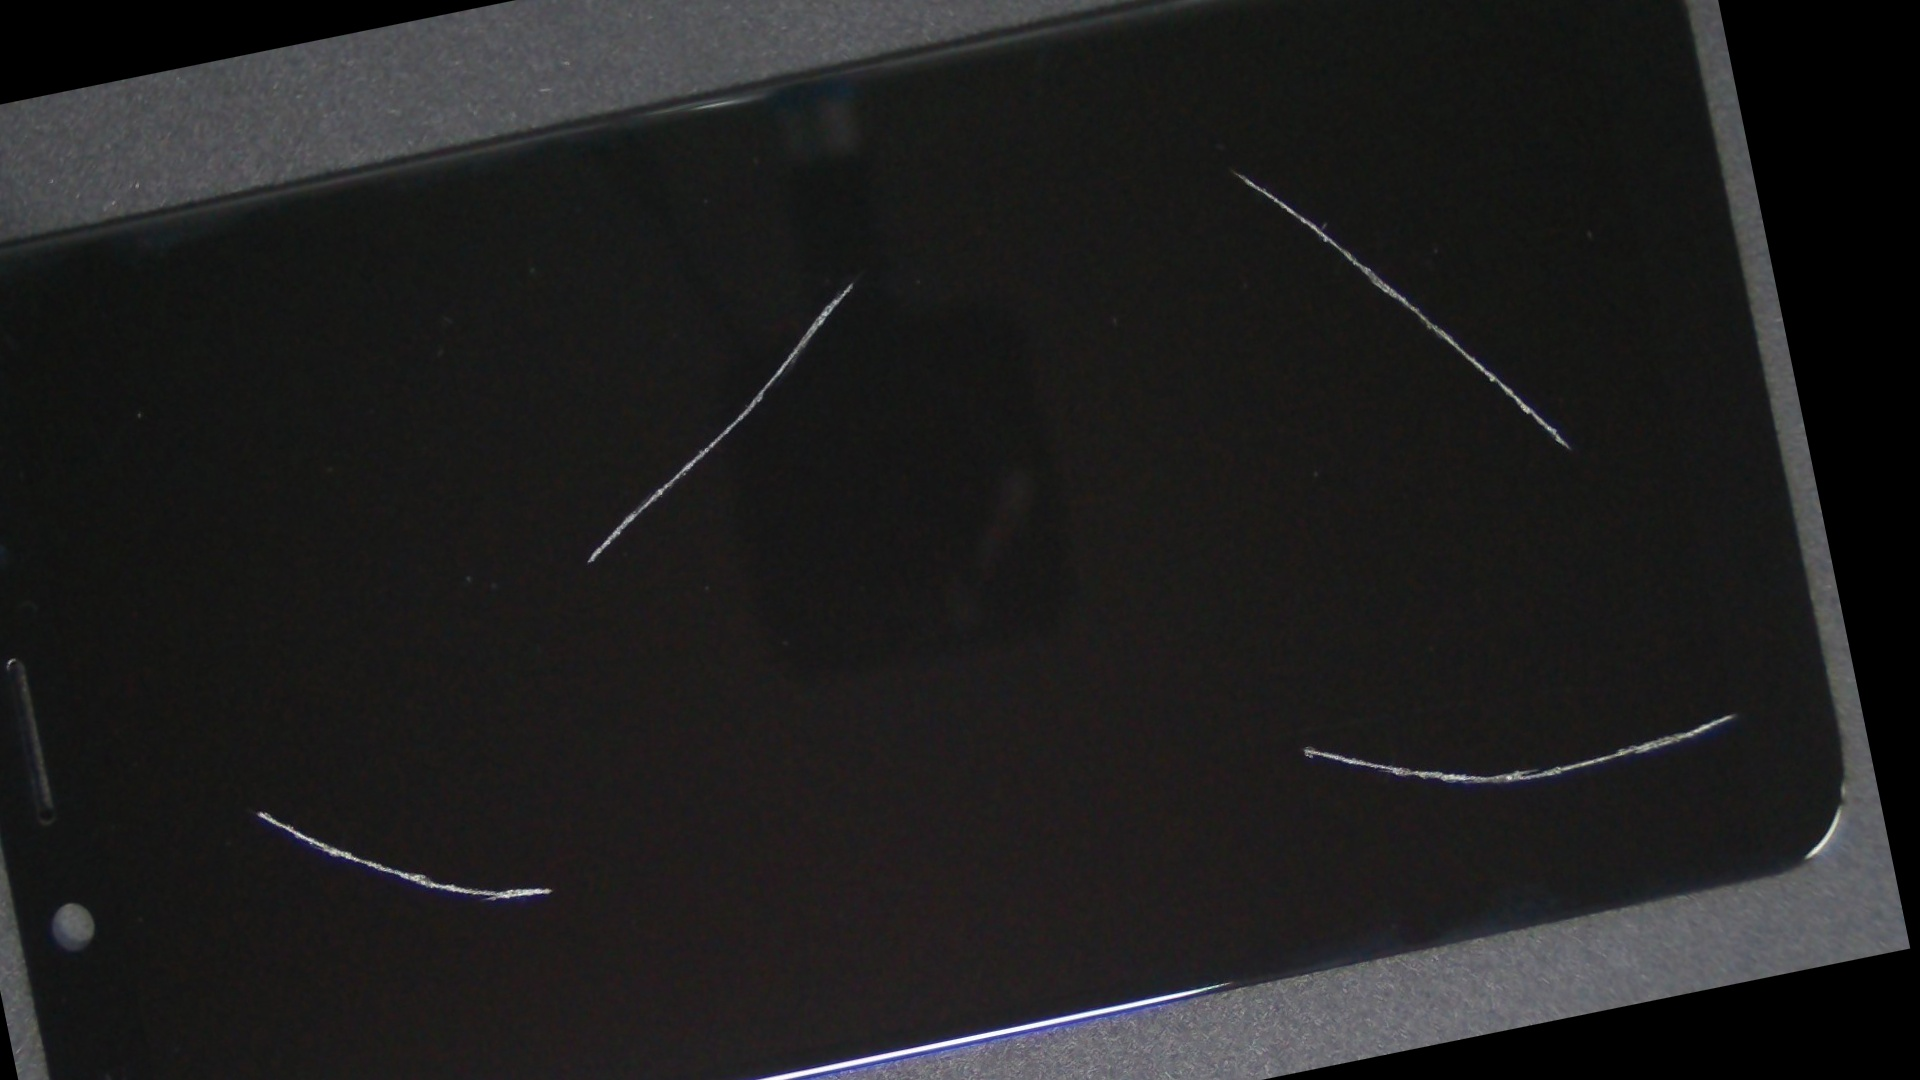oil: (566, 200, 1911, 1080), (530, 0, 1763, 459), (339, 17, 1361, 547), (44, 417, 473, 1080)
